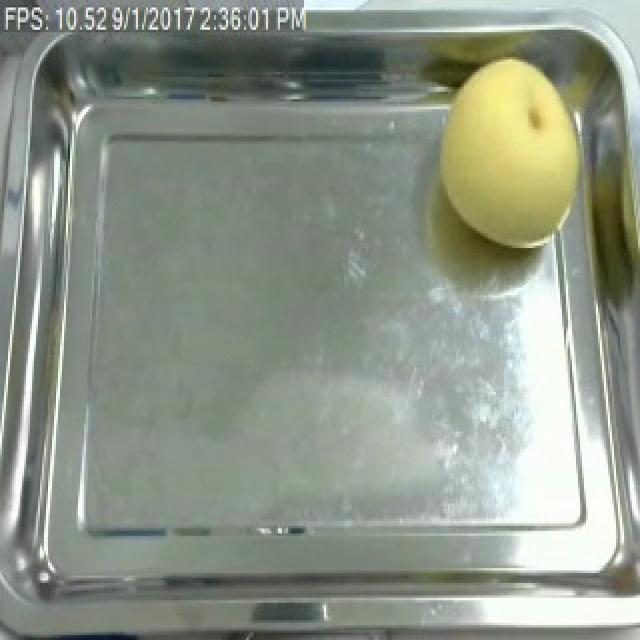Fruit: (424, 44, 604, 260)
